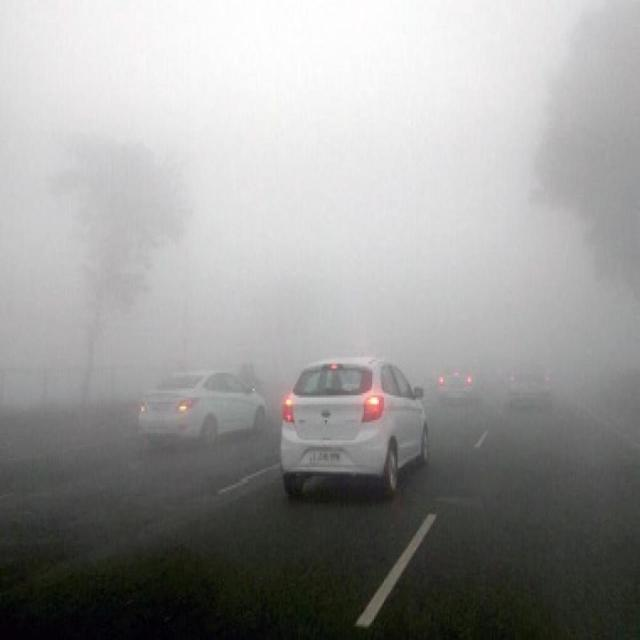Car: (275, 358, 431, 484), (137, 365, 267, 451)
